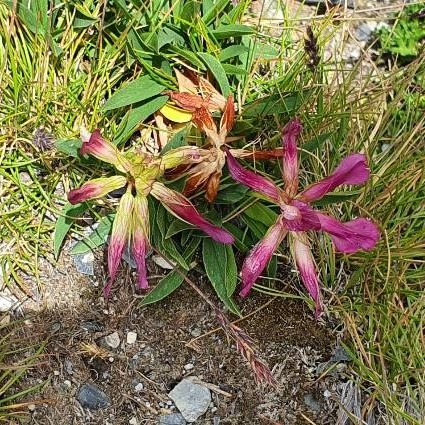obstacle: (86, 23, 382, 299)
